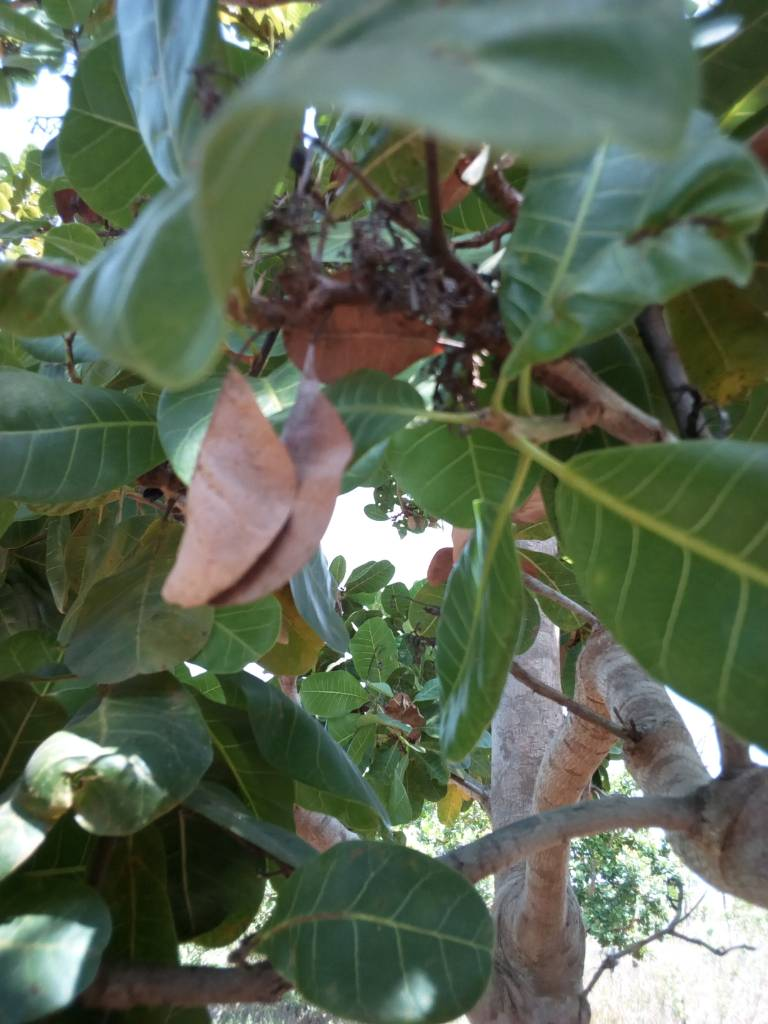Dessèchement des bourgeons: (275, 172, 479, 333)
